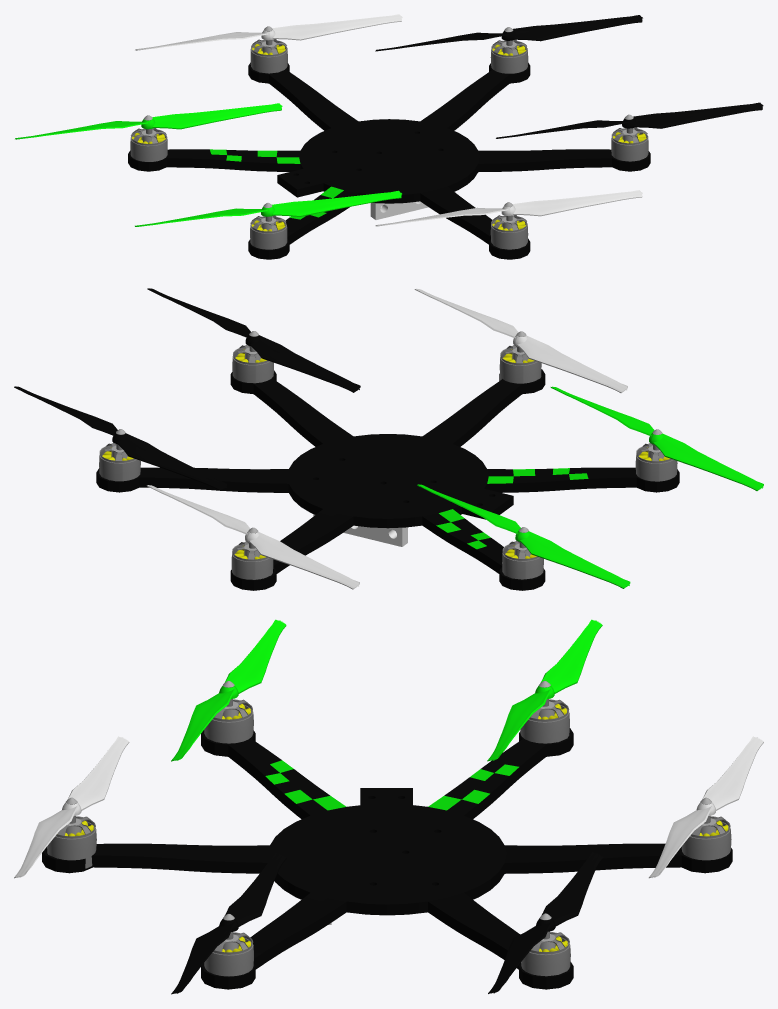
The model's file is uav_6_2.fbx.
The picture shows the model from 3 angles, top to bottom: view 1: azimuth 30°, elevation 25°; view 2: azimuth 150°, elevation 25°; view 3: azimuth 270°, elevation 25°; orthographic projection. The views are drawn at different scales.
Visible parts, largest first — view 1: coil_7_2797; view 2: coil_7_2797; view 3: coil_7_2797.
Boxes of the visible parts, bbox=[...] form: coil_7_2797: bbox=[15, 14, 763, 259]; coil_7_2797: bbox=[14, 288, 763, 590]; coil_7_2797: bbox=[14, 619, 763, 994].
Bounding box in the file's own units: 42.23 × 5.24 × 35.19.
